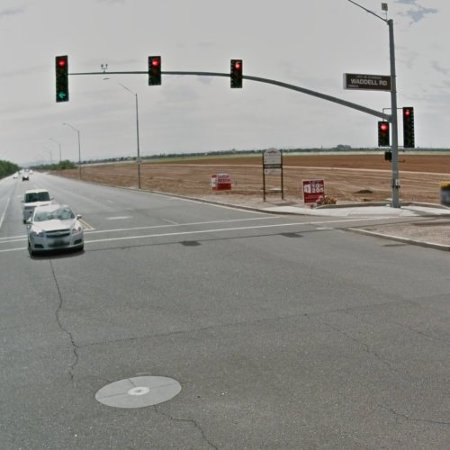汽車: (112, 321, 173, 373), (196, 321, 238, 351)
紅綠燈: (400, 252, 437, 297), (216, 202, 248, 245), (148, 206, 180, 245), (19, 271, 41, 298)
